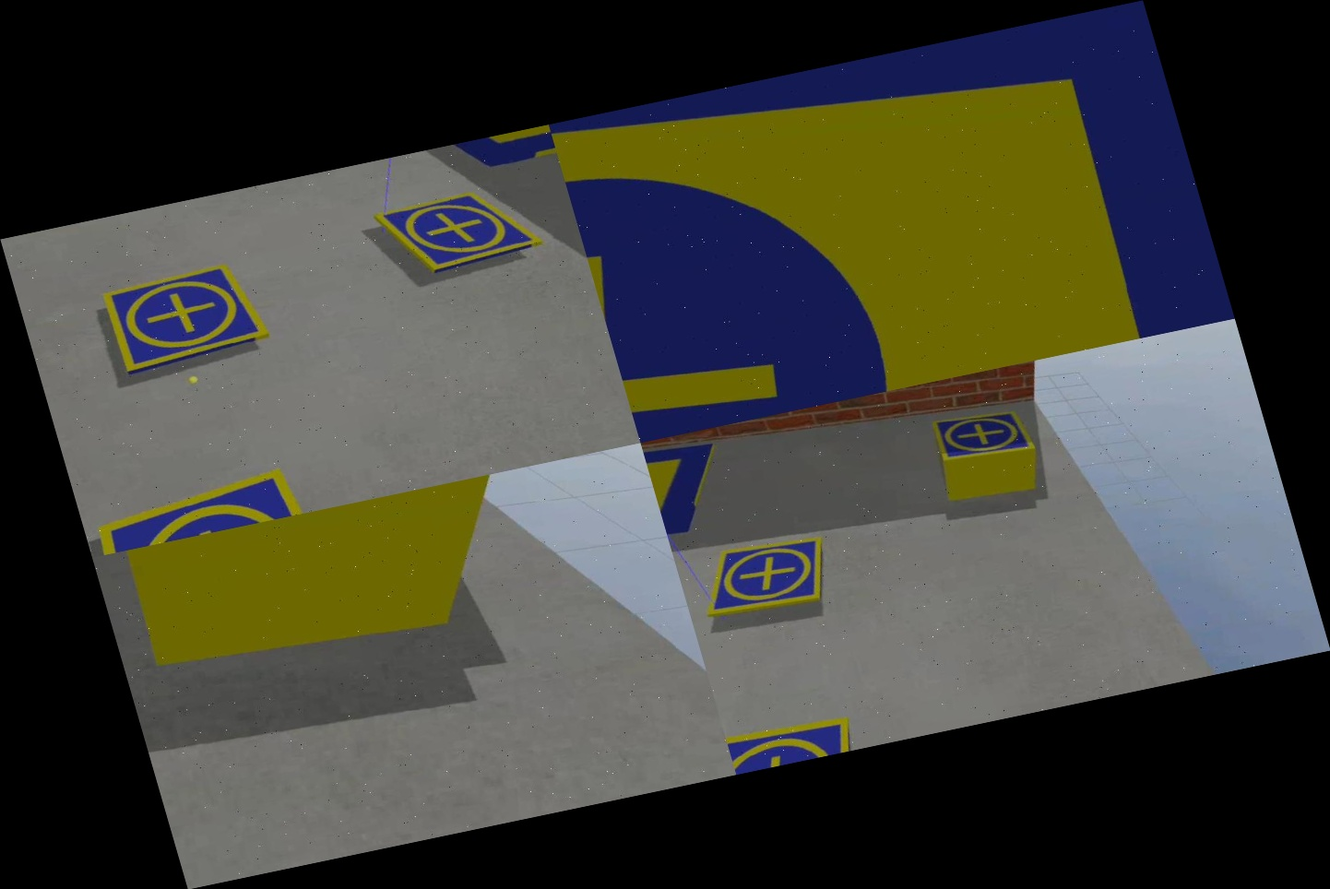large_base: (549, 0, 1234, 443), (363, 124, 564, 215), (641, 428, 738, 544)
small_base: (71, 429, 360, 557), (80, 240, 292, 398), (357, 165, 563, 303), (688, 525, 840, 632), (720, 693, 861, 774), (923, 395, 1046, 474)
